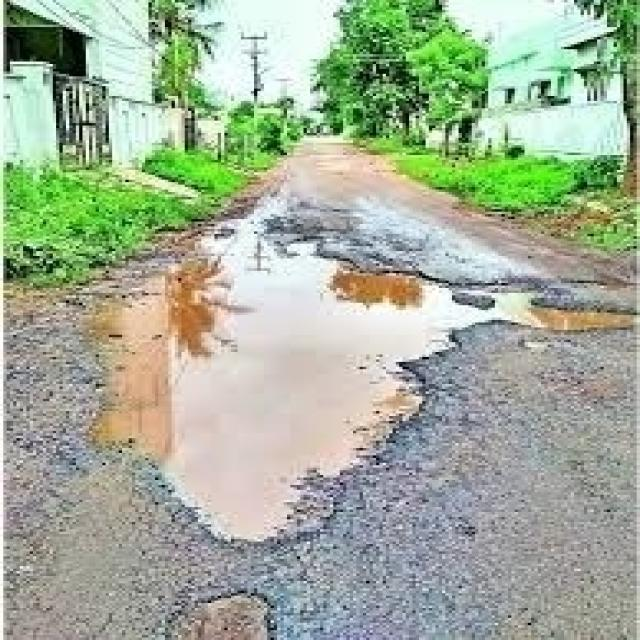road-pothole: (54, 195, 636, 554)
